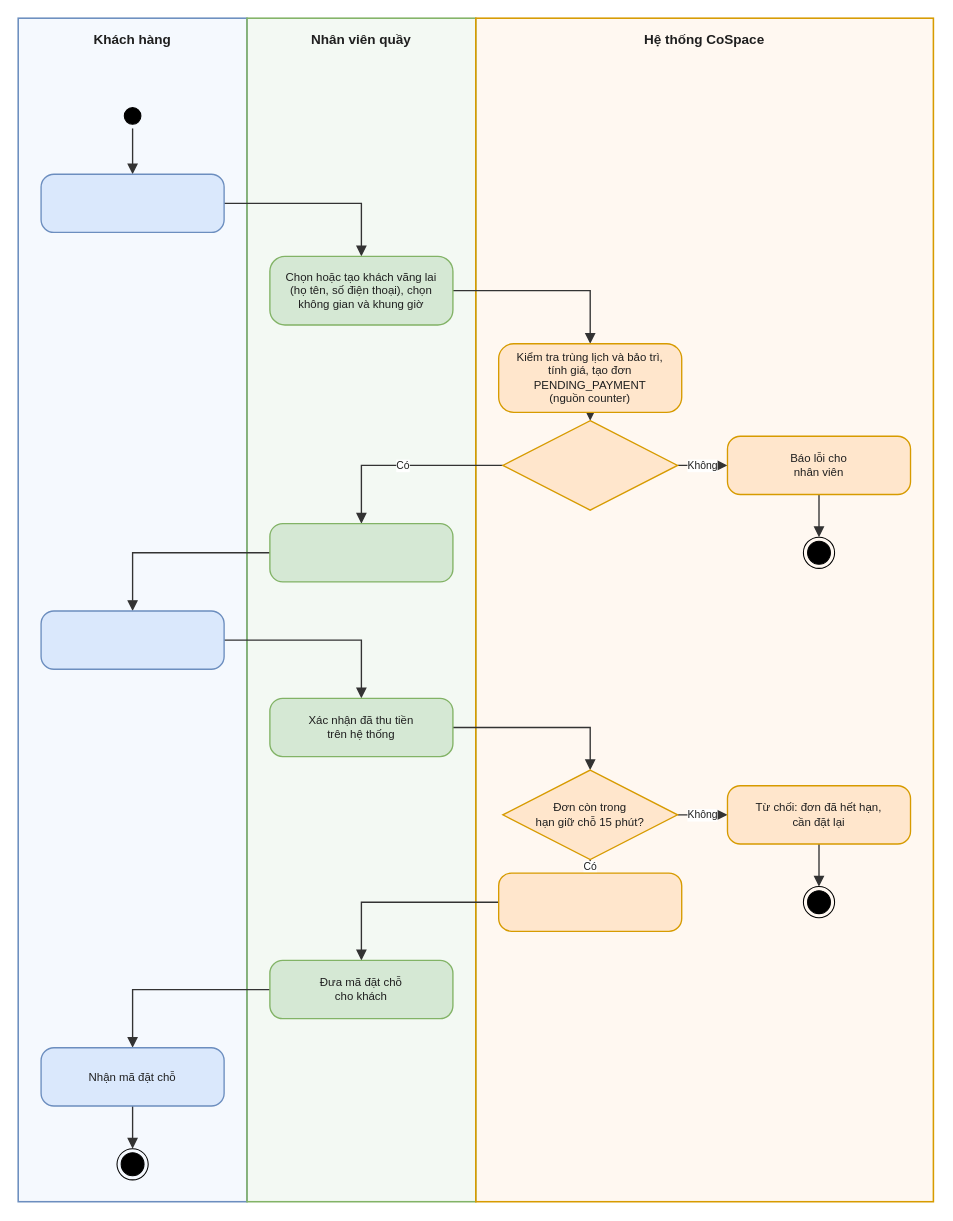
This 953x1221 diagram has some shape labels left out. Here are the shapes that lost their labels. From the top down, the centre of each, then its label:
At point 132,203: "Đến quầy, yêu cầu thuê chỗ".
At point 590,465: "Hợp lệ?".
At point 361,552: "Báo số tiền, thu tiền mặt của khách".
At point 132,639: "Đưa tiền mặt".
At point 590,902: "Ghi payment (cash, PAID), đơn CONFIRMED, sinh mã đặt chỗ".
